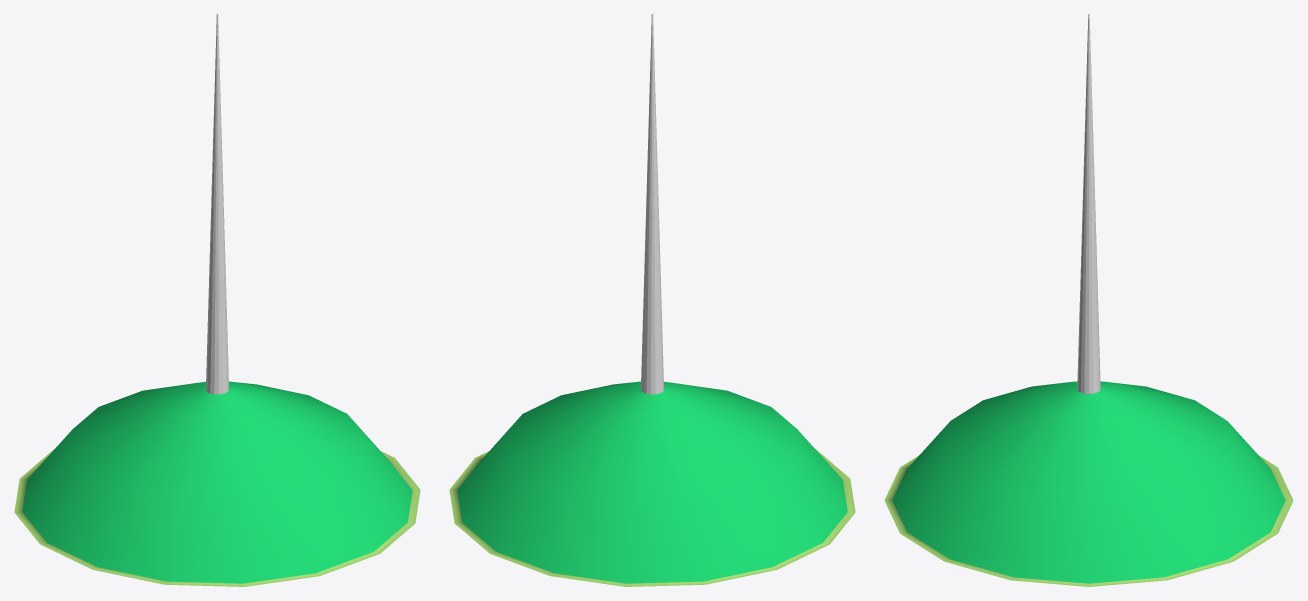
Rendered from Affordable Roof Light.fbx.
3 renders of one model, left to right at view 1: azimuth 30°, elevation 25°; view 2: azimuth 150°, elevation 25°; view 3: azimuth 270°, elevation 25°, orthographic.
Parts seen in each view (by area): view 1: Circle_001, Circle; view 2: Circle_001, Circle; view 3: Circle_001, Circle.
Boxes of the visible parts, x1,y1,x2,y2 form: Circle_001: (14, 381, 420, 586); Circle: (206, 14, 228, 394); Circle_001: (449, 381, 855, 586); Circle: (641, 14, 663, 394); Circle_001: (884, 381, 1293, 586); Circle: (1077, 14, 1100, 393).
Size of the model in its own units: 33.98 by 44.55 by 33.98.
